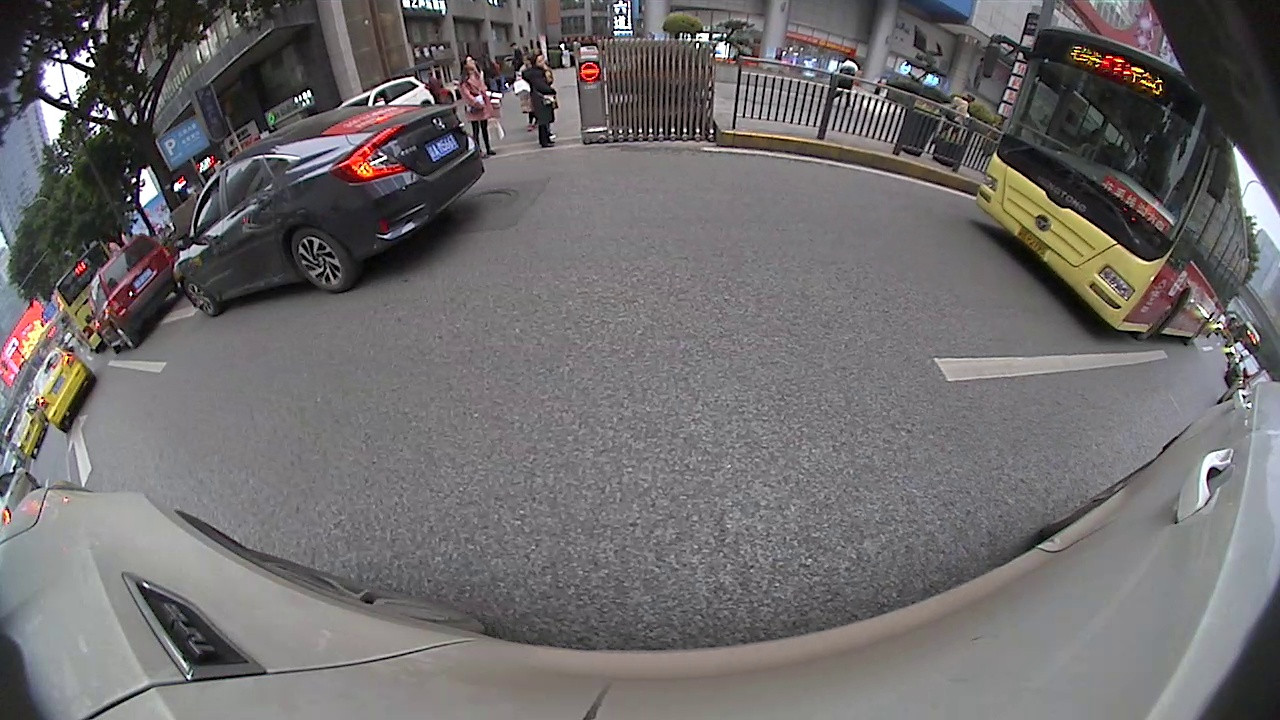car: (858, 135, 1112, 331), (77, 145, 290, 322), (712, 68, 928, 172), (423, 59, 606, 140), (263, 103, 376, 172), (1186, 376, 1251, 466), (37, 269, 104, 338), (1107, 277, 1170, 340)
front: (146, 261, 188, 309), (1069, 297, 1106, 331), (742, 120, 781, 151), (439, 107, 471, 136)
rear: (981, 260, 1030, 310), (96, 286, 126, 320), (554, 97, 587, 126)
rider: (1137, 310, 1203, 384)
